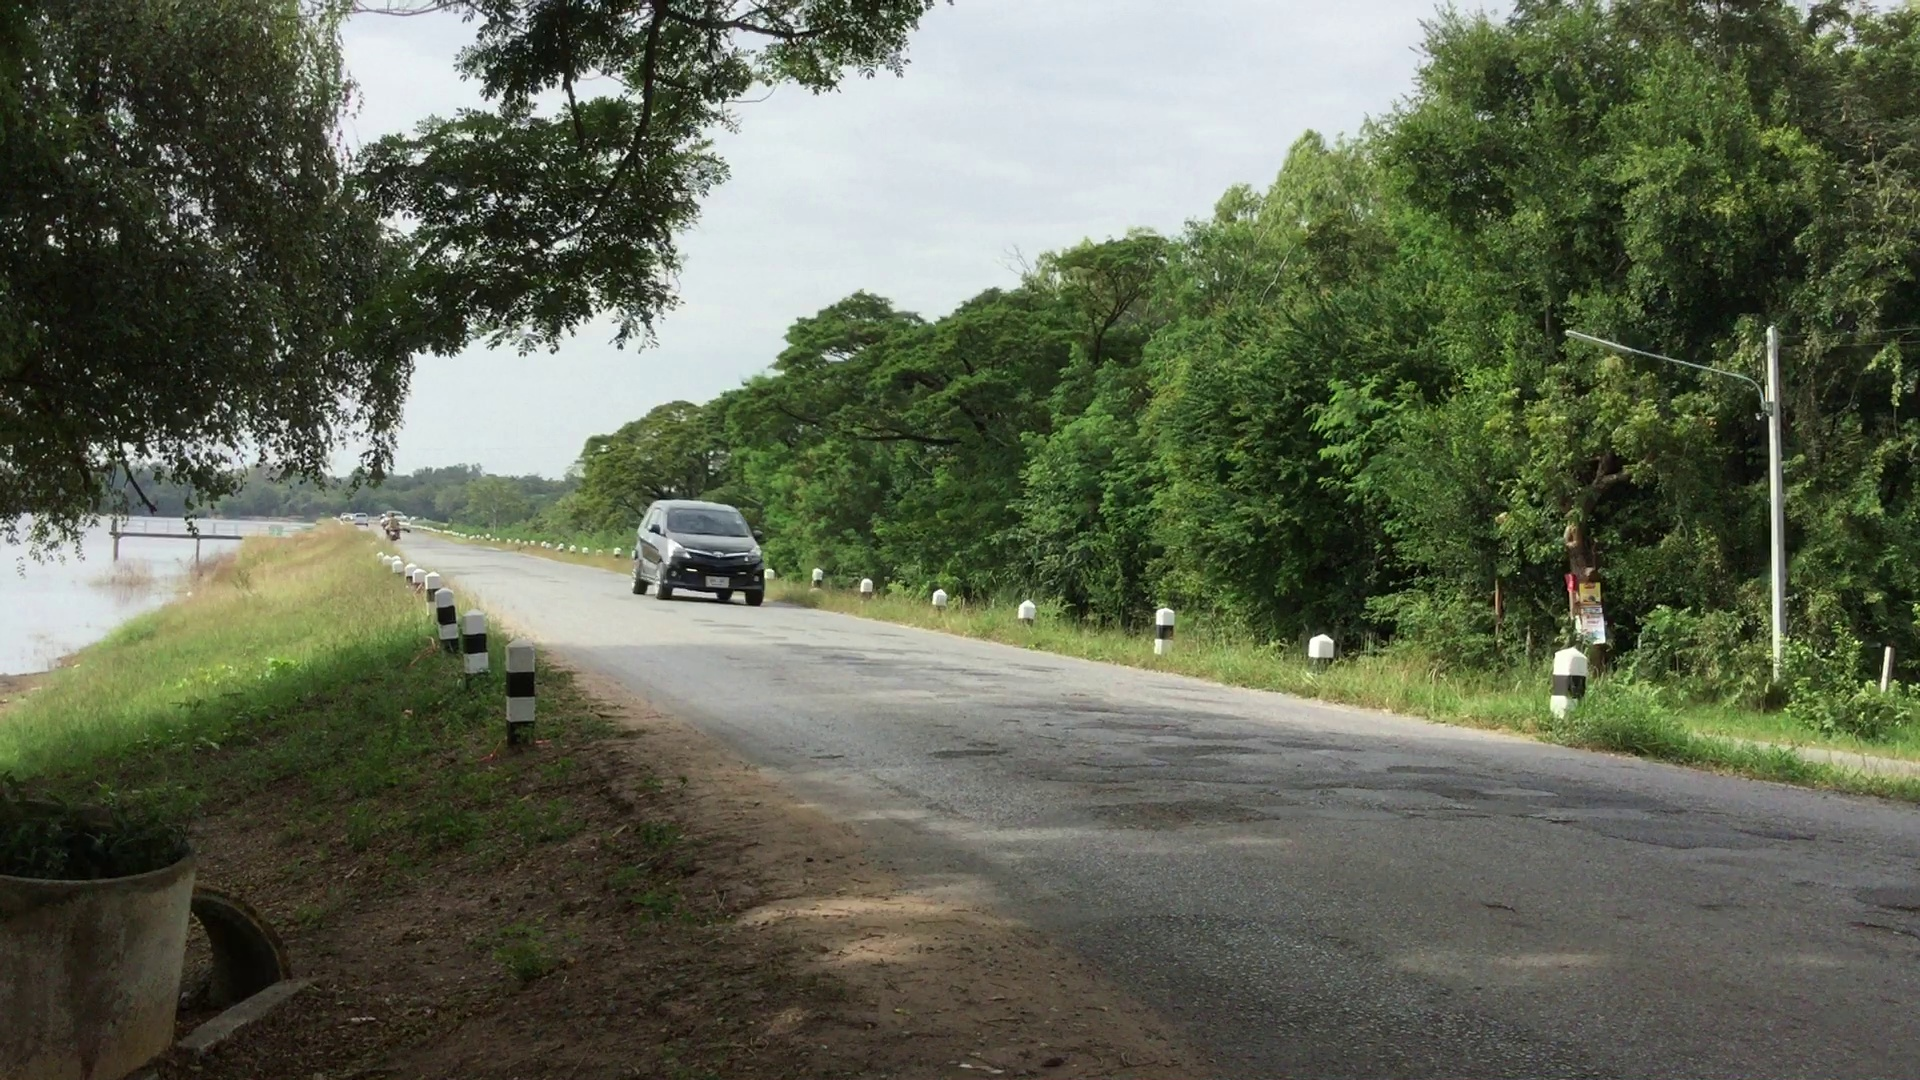car: (631, 493, 769, 616)
person: (384, 513, 399, 538)
post: (500, 634, 542, 739), (1551, 646, 1591, 728), (460, 605, 496, 676), (429, 588, 458, 646), (1305, 633, 1337, 673), (1155, 608, 1177, 651), (1018, 599, 1035, 630), (855, 576, 873, 599), (809, 566, 823, 591), (933, 589, 948, 614)
